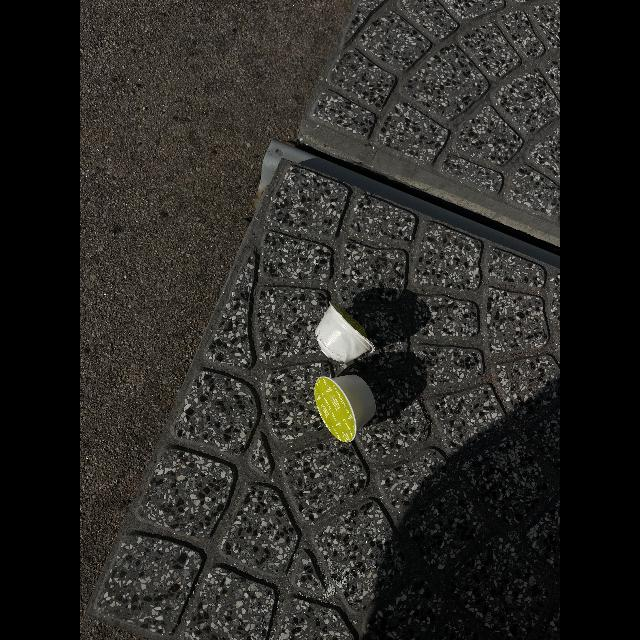damaged_capsule: (306, 299, 386, 371)
intact_capsule: (304, 362, 386, 450)
